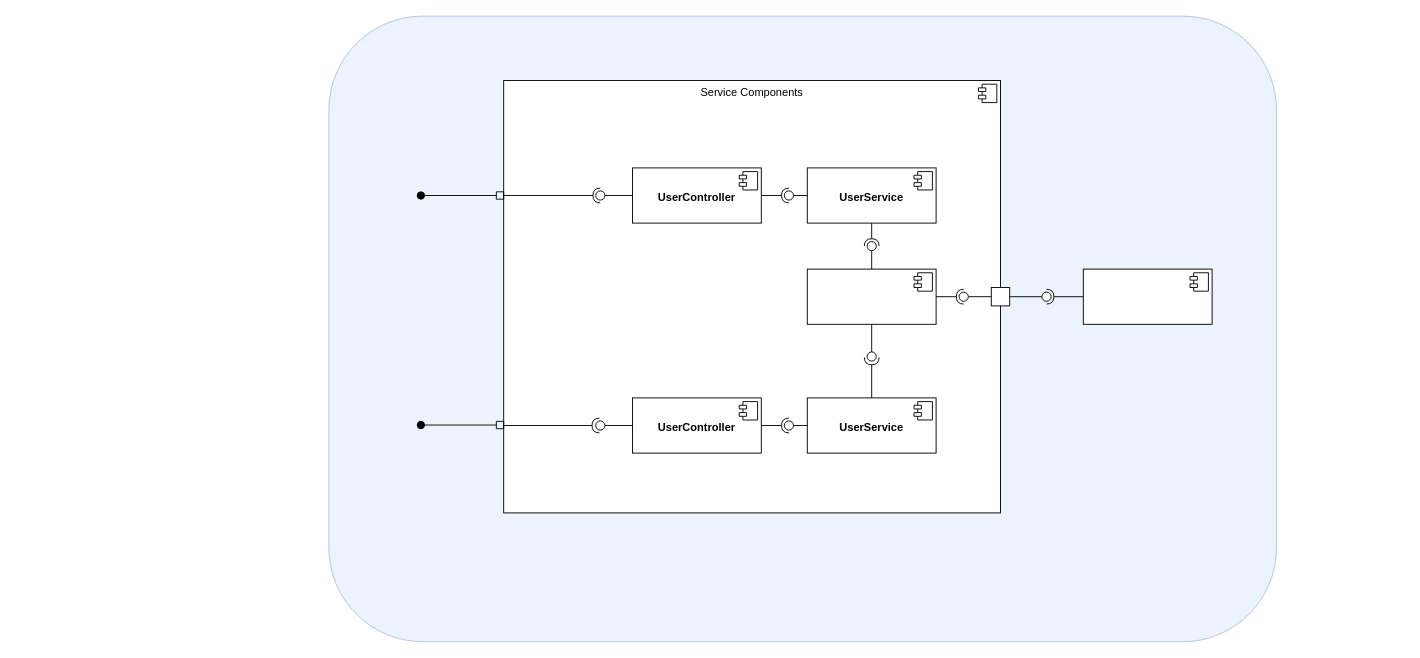
Some shapes in this 1420 by 658 pixel diagram are drawn without their labels. The shapes that lost their labels are listed below. From the top down, each one's centre as x and y in pixels, then its label:
At point 871,296: "UserRepository".
At point 1147,296: "DB (H2)".
